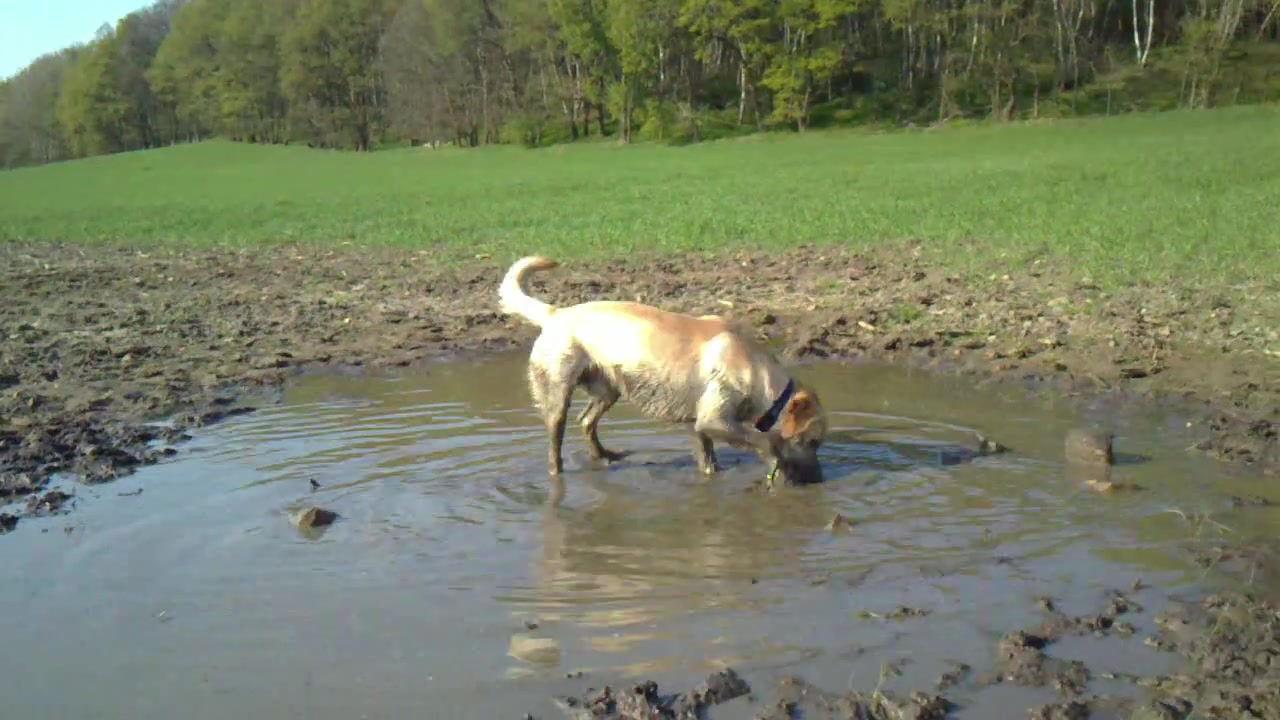dog: (499, 254, 830, 488)
